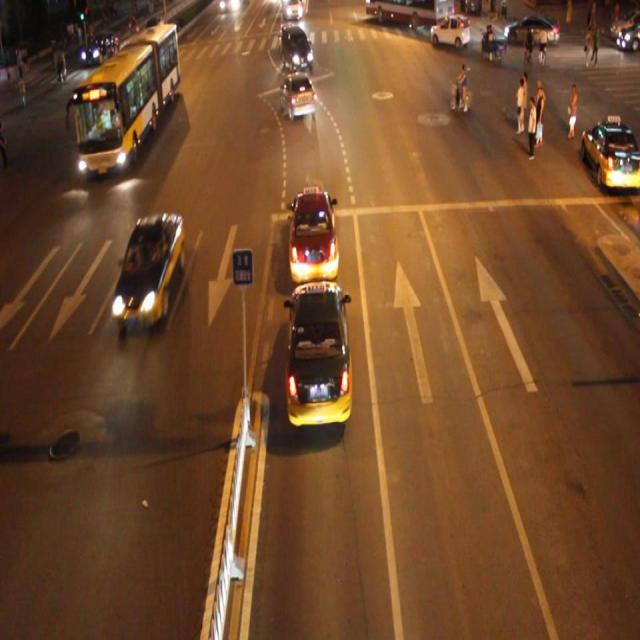car: (284, 278, 352, 426), (112, 214, 184, 322), (287, 188, 339, 284), (277, 68, 317, 123), (280, 28, 314, 75)
van: (74, 27, 179, 176)
